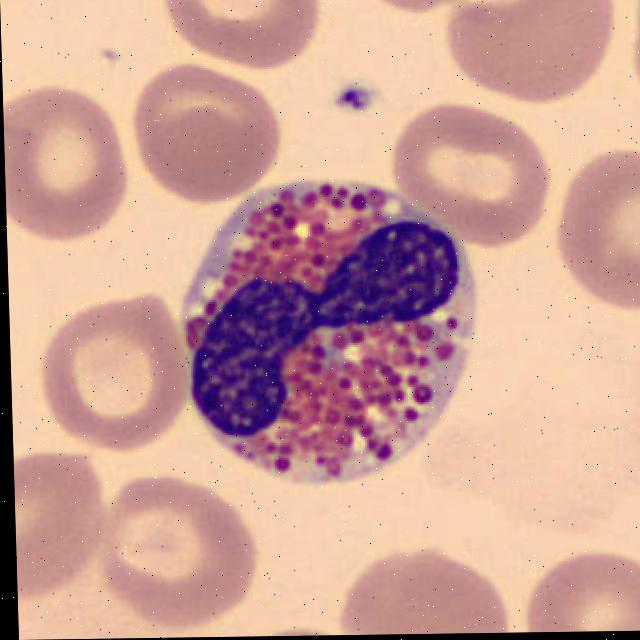eosinophil: (182, 182, 482, 488)
rbc: (95, 478, 270, 630), (42, 286, 196, 458), (3, 88, 136, 247), (135, 64, 280, 207), (405, 112, 554, 251), (443, 0, 628, 107), (13, 433, 113, 614), (338, 547, 517, 635), (554, 146, 640, 319), (521, 530, 640, 633), (167, 0, 321, 76), (212, 622, 375, 637), (373, 0, 465, 26), (630, 0, 640, 107)
